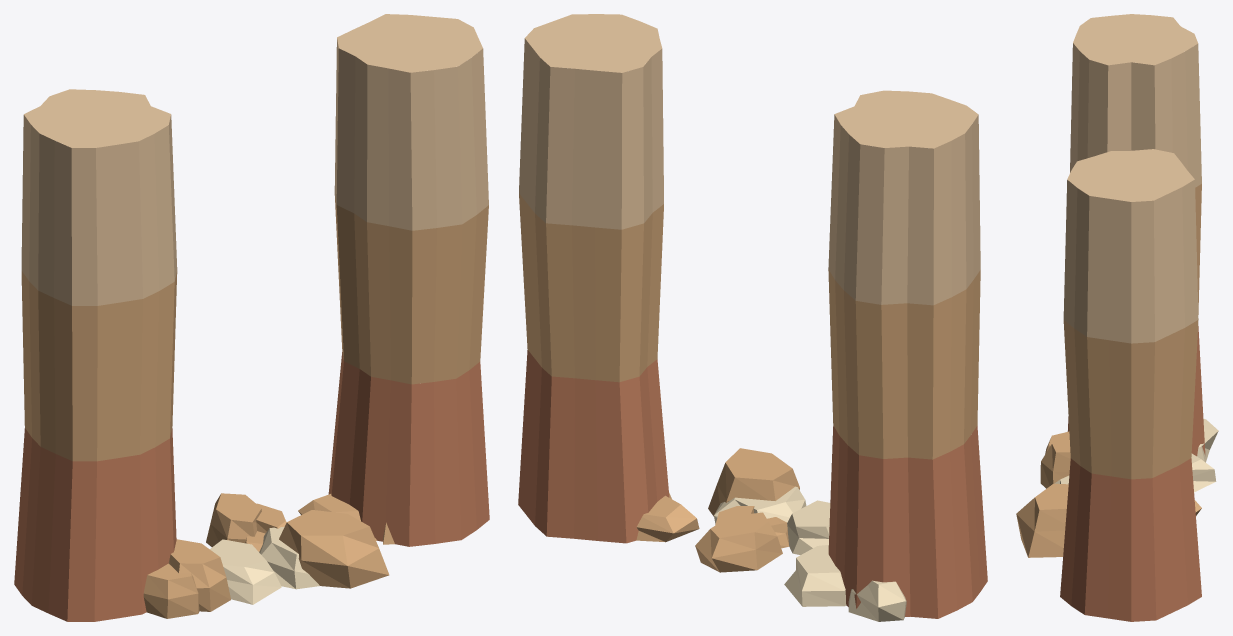
File: desert-canyons-and-oases-rockfall-notch-wall-1cd7a366__20911.glb
The picture shows the model from 3 angles, left to right: view 1: azimuth 30°, elevation 25°; view 2: azimuth 150°, elevation 25°; view 3: azimuth 270°, elevation 25°; orthographic projection. The views are drawn at different scales.
Visible parts, largest first — view 1: rockfall-notch-wall; view 2: rockfall-notch-wall; view 3: rockfall-notch-wall.
Part boxes in pixels (<box>): rockfall-notch-wall: <box>14,14,489,621</box>; rockfall-notch-wall: <box>518,14,987,621</box>; rockfall-notch-wall: <box>1016,14,1218,621</box>.
Bounding box in the file's own units: 3.98 × 4 × 1.76.
